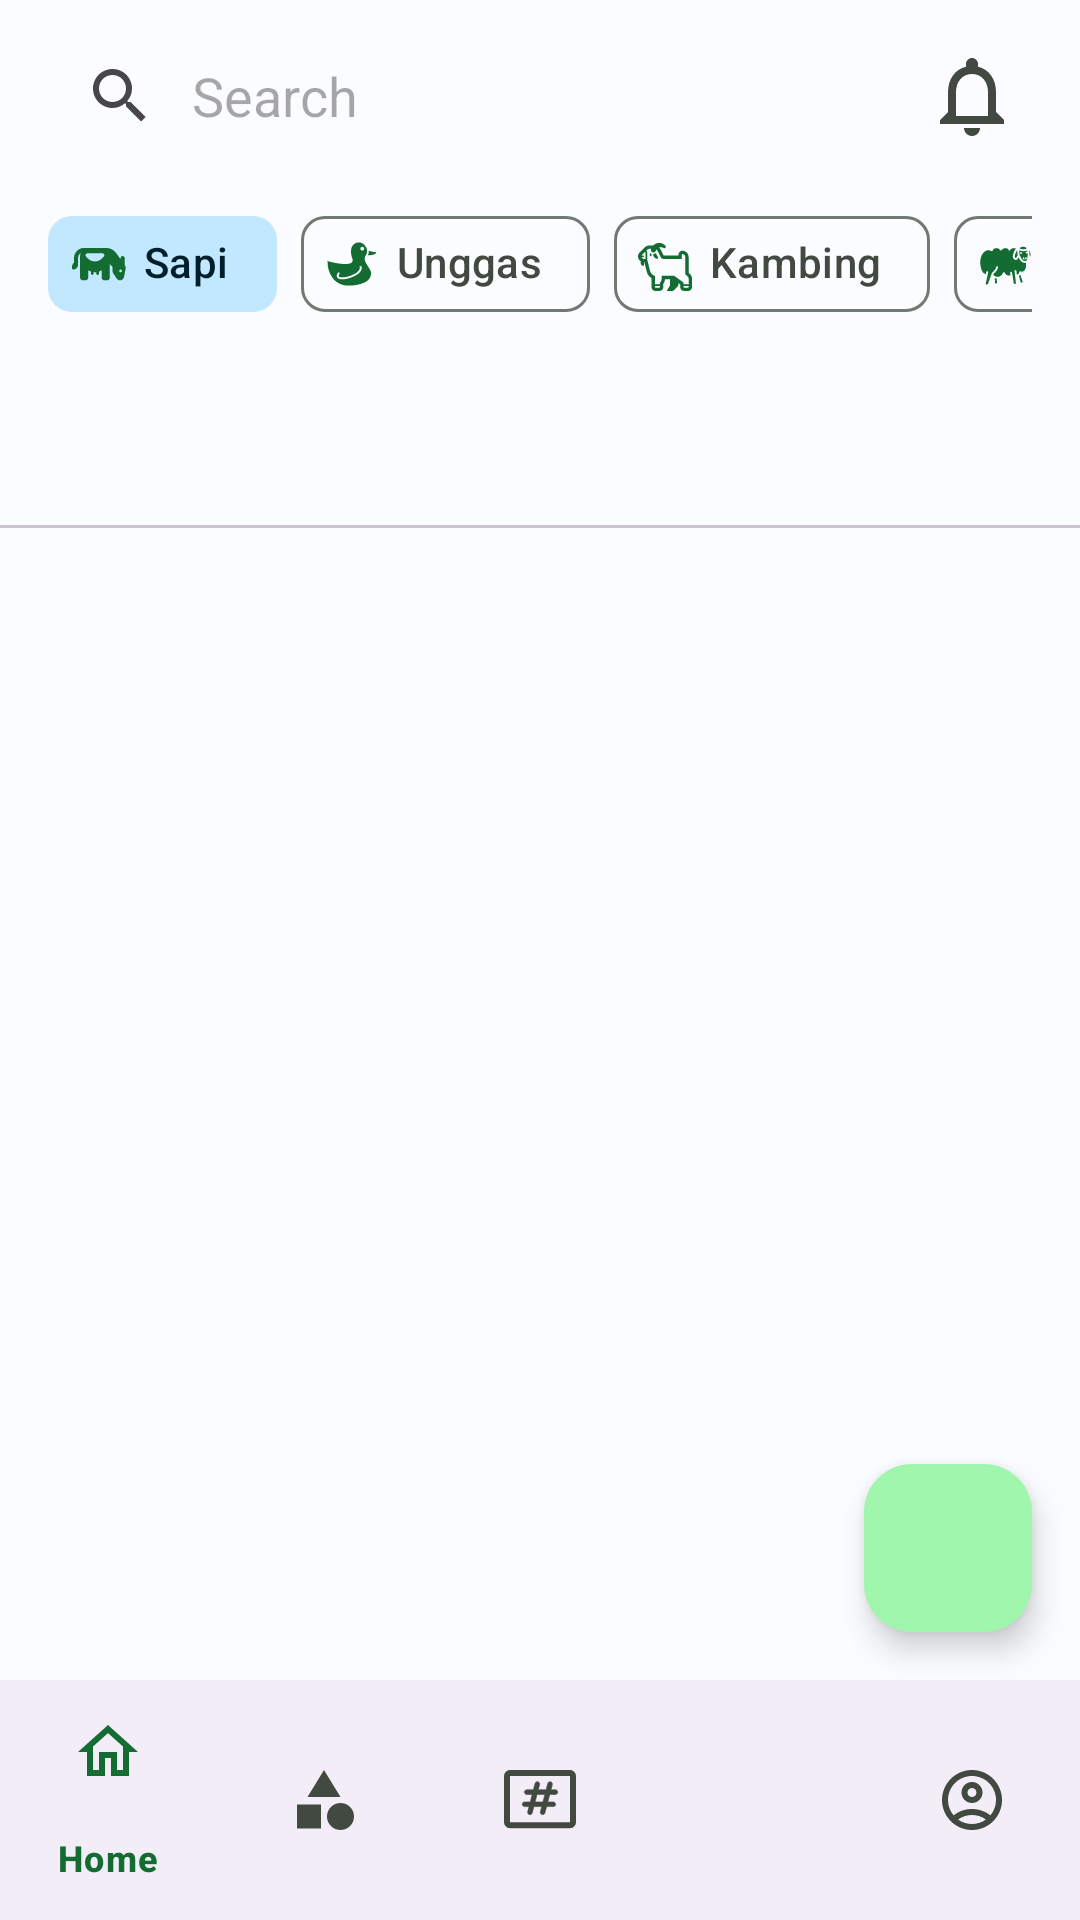

Icon click points for this 1080px x 1920px phone screenshot, format [x,y]:
notification: [972,97]
